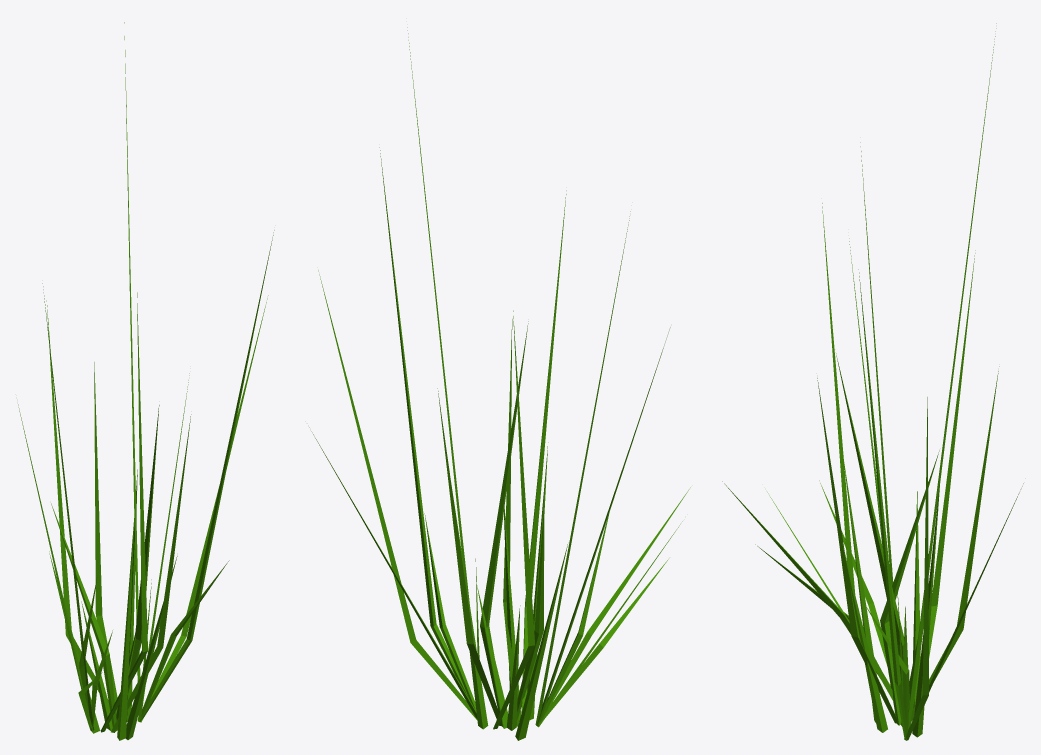
The model's file is Grass_6.fbx.
The picture shows the model from 3 angles, left to right: view 1: azimuth 30°, elevation 25°; view 2: azimuth 150°, elevation 25°; view 3: azimuth 270°, elevation 25°; orthographic projection. The views are drawn at different scales.
Parts seen in each view (by area): view 1: Grass 6_LOD0; view 2: Grass 6_LOD0; view 3: Grass 6_LOD0.
Part boxes in pixels (x1,y1,x2,y2): Grass 6_LOD0: (18,22,274,740); Grass 6_LOD0: (309,27,690,740); Grass 6_LOD0: (722,23,1023,740).
Size of what is drawn, in the model's own units: 20.55 by 45.42 by 16.96.
